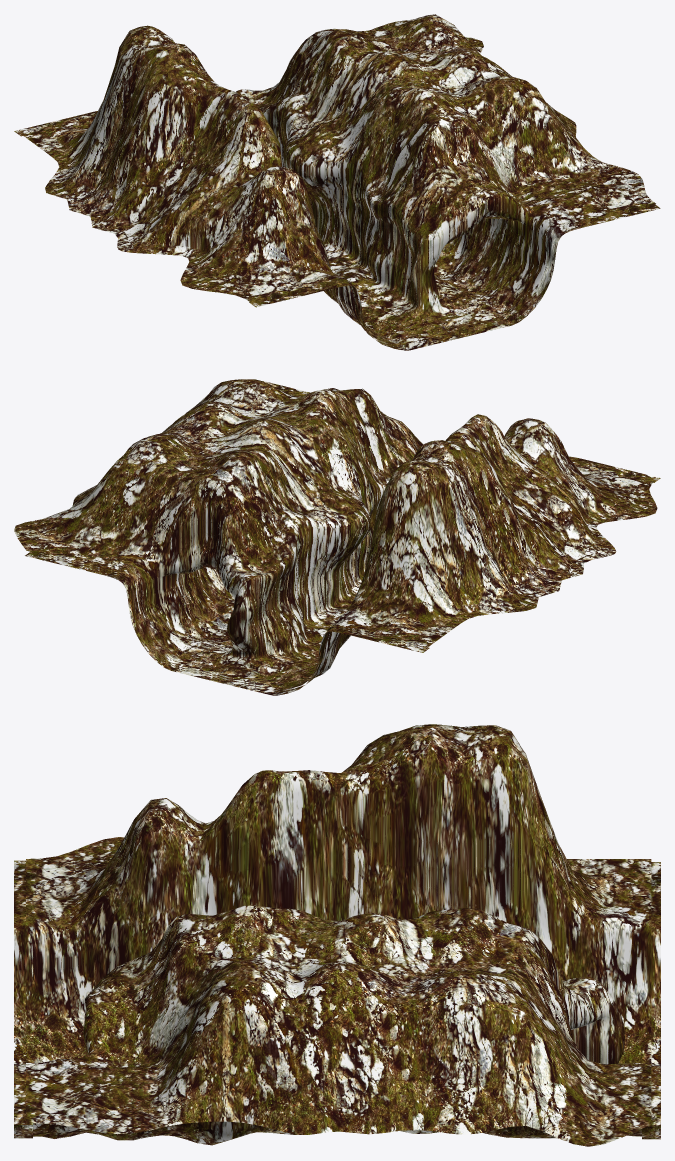
File: HalfTunnel_Valley.FBX
3 renders of one model, top to bottom at view 1: azimuth 30°, elevation 25°; view 2: azimuth 150°, elevation 25°; view 3: azimuth 270°, elevation 25°, orthographic. The views are drawn at different scales.
Parts seen in each view (by area): view 1: HalfTunnel_flat; view 2: HalfTunnel_flat; view 3: HalfTunnel_flat.
Part boxes in pixels (x1,y1,x2,y2): HalfTunnel_flat: (14,14,660,350); HalfTunnel_flat: (14,379,660,695); HalfTunnel_flat: (14,724,660,1146).
Bounding box in the file's own units: 1201 × 508 × 1035.
